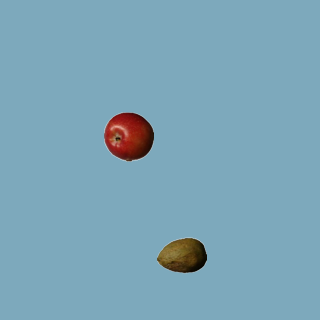Apple Braeburn: (103, 111, 153, 161)
Papaya: (156, 230, 206, 280)
